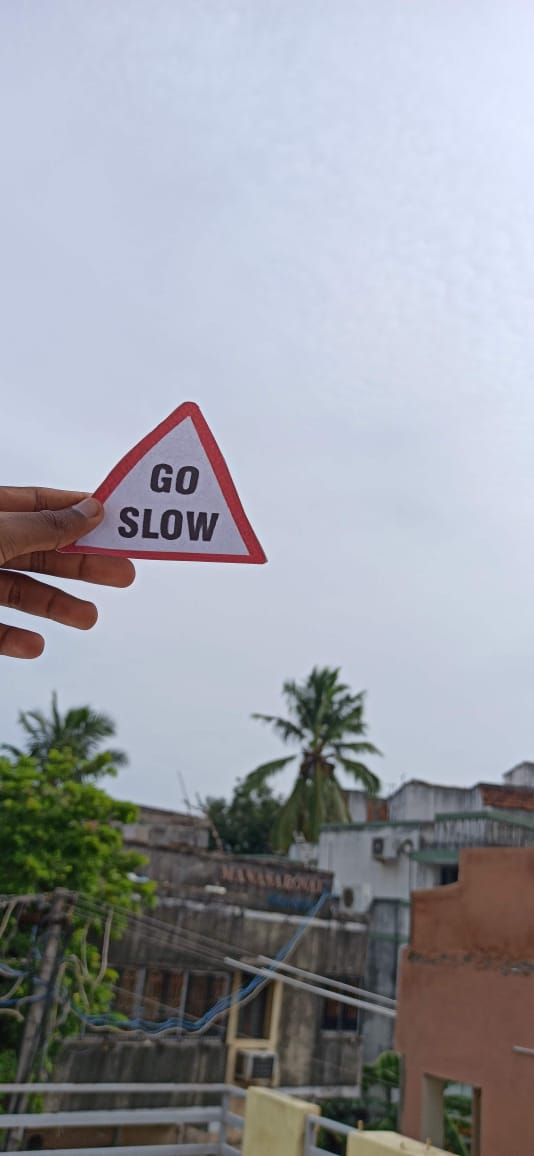GO SLOW: (56, 376, 291, 584)
